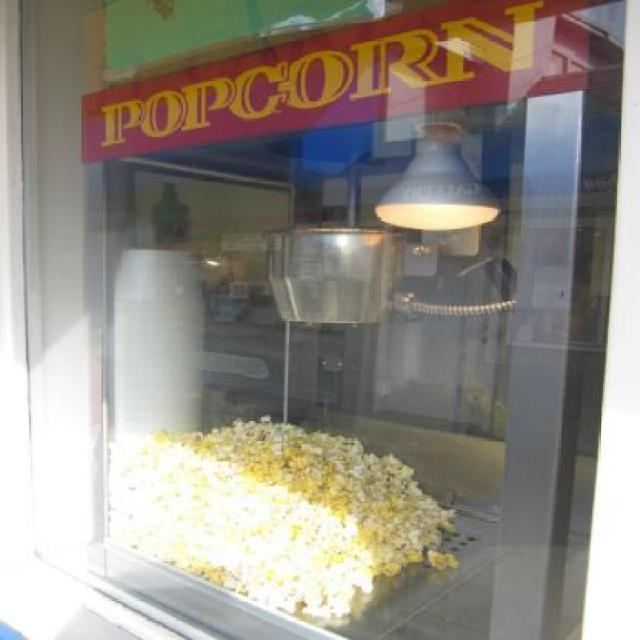Popcorn: (103, 412, 460, 617)
